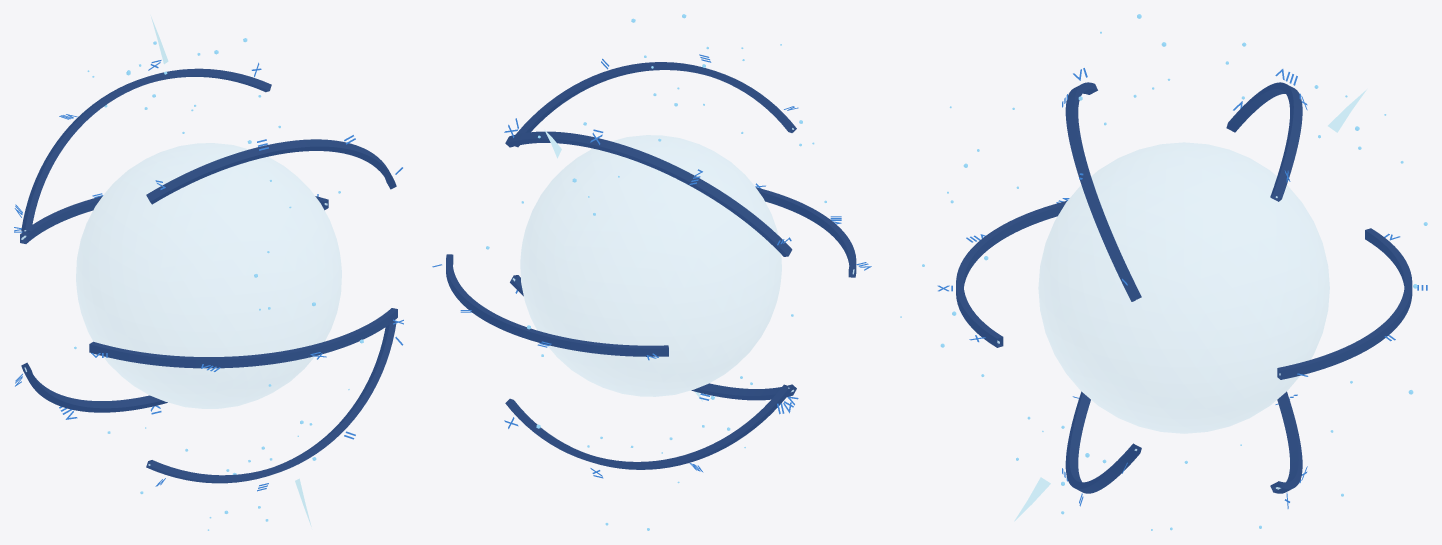
The model's file is clock_catalyst.glb.
The picture shows the model from 3 angles, left to right: view 1: azimuth 30°, elevation 25°; view 2: azimuth 150°, elevation 25°; view 3: azimuth 270°, elevation 25°; orthographic projection. The views are drawn at different scales.
Visible parts, largest first — view 1: Core_white_sphere, Frame_00_arc_01, Frame_02_arc_00, Frame_01_arc_01, Frame_01_arc_00, Frame_02_arc_01, Frame_00_arc_00; view 2: Core_white_sphere, Frame_01_arc_01, Frame_00_arc_00, Frame_02_arc_01, Frame_02_arc_00, Frame_00_arc_01, Frame_01_arc_00; view 3: Core_white_sphere, Frame_00_arc_00, Frame_02_arc_00, Frame_00_arc_01, Frame_01_arc_01, Frame_01_arc_00, Frame_02_arc_01.
Boxes of the visible parts, bbox=[...] form: Core_white_sphere: bbox=[76, 143, 341, 408]; Frame_00_arc_01: bbox=[89, 308, 397, 368]; Frame_02_arc_00: bbox=[146, 139, 396, 204]; Frame_01_arc_01: bbox=[21, 68, 271, 232]; Frame_01_arc_00: bbox=[146, 321, 396, 483]; Frame_02_arc_01: bbox=[21, 362, 167, 412]; Frame_00_arc_00: bbox=[20, 196, 328, 243]; Core_white_sphere: bbox=[520, 135, 781, 396]; Frame_01_arc_01: bbox=[505, 131, 792, 256]; Frame_00_arc_00: bbox=[446, 254, 668, 356]; Frame_02_arc_01: bbox=[505, 384, 791, 469]; Frame_02_arc_00: bbox=[515, 62, 796, 147]; Frame_00_arc_01: bbox=[756, 187, 856, 277]; Frame_01_arc_00: bbox=[510, 275, 796, 400]; Core_white_sphere: bbox=[1038, 142, 1329, 433]; Frame_00_arc_00: bbox=[1277, 228, 1412, 379]; Frame_02_arc_00: bbox=[1065, 82, 1141, 301]; Frame_00_arc_01: bbox=[956, 200, 1067, 347]; Frame_01_arc_01: bbox=[1226, 82, 1302, 201]; Frame_01_arc_00: bbox=[1065, 391, 1141, 493]; Frame_02_arc_01: bbox=[1270, 391, 1302, 493].
Size of the model in its own units: 0.3336 by 0.4571 by 0.4162.
